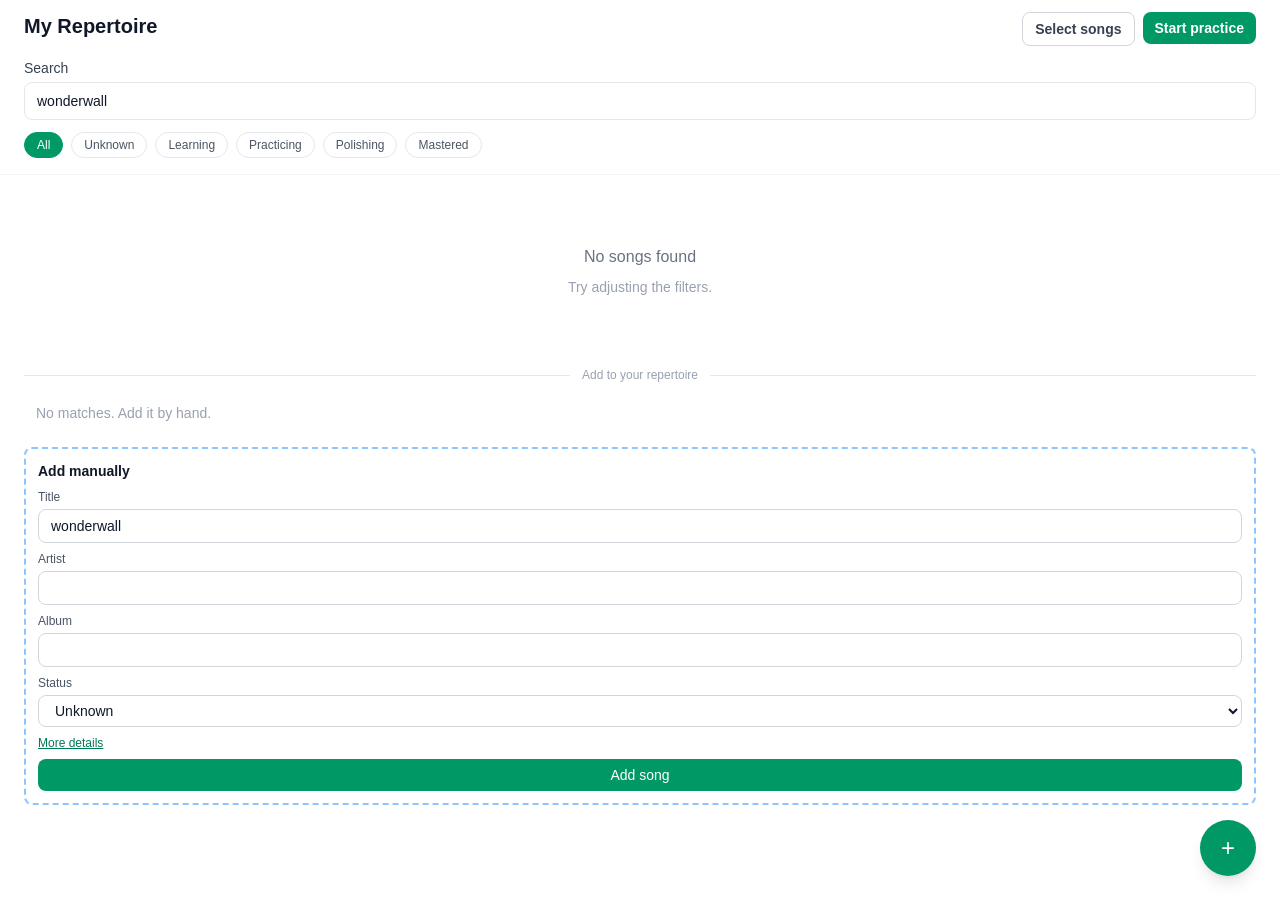
Scenario: manual entry panel (RH-152) › creates a manual song with title, artist, album and status
Replace the text in the field labelled "Title" with "Champagne Supernova" at [640, 526], box [38,509,1242,543]
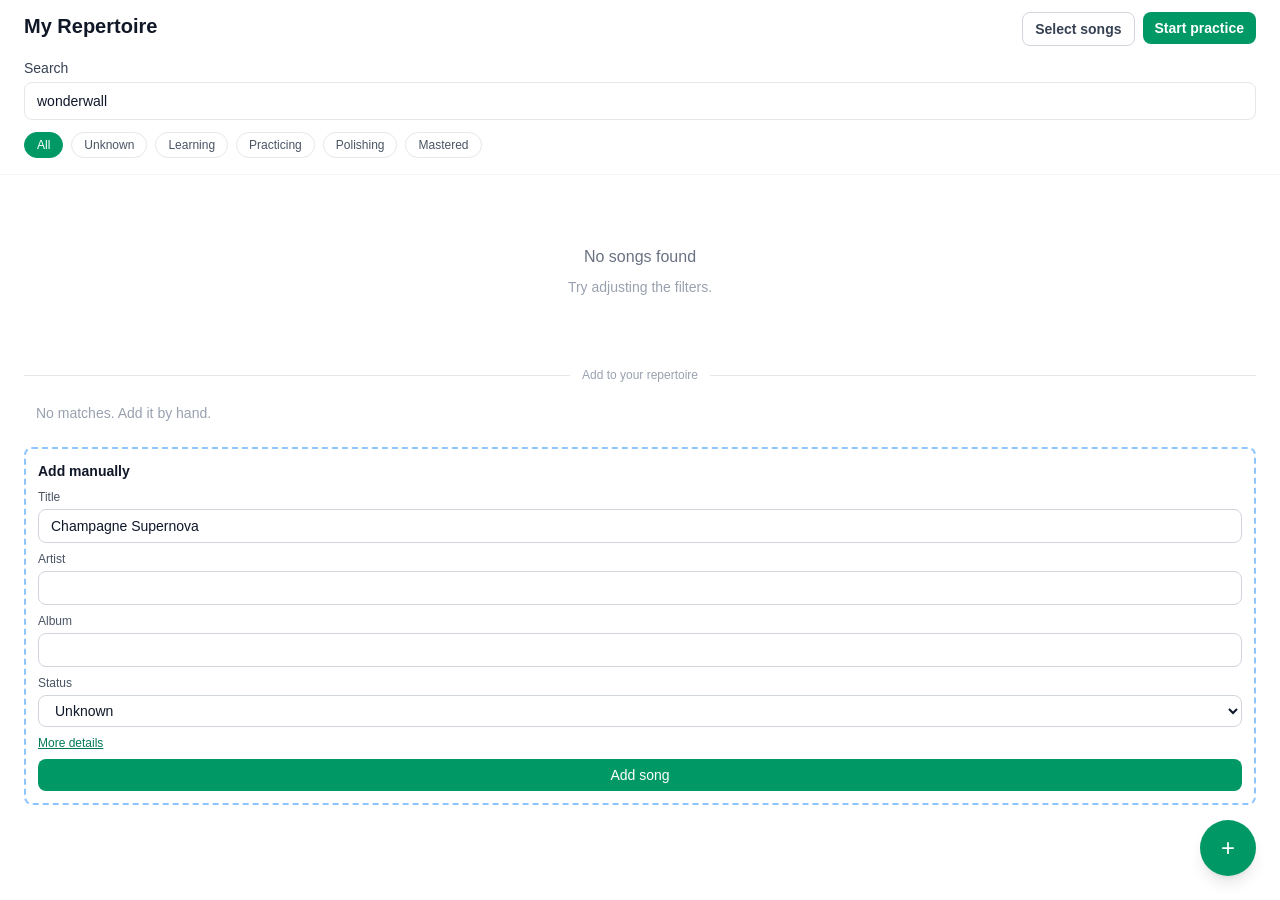
Type "Oasis" into the field labelled "Artist" at [640, 588], box [38,571,1242,605]
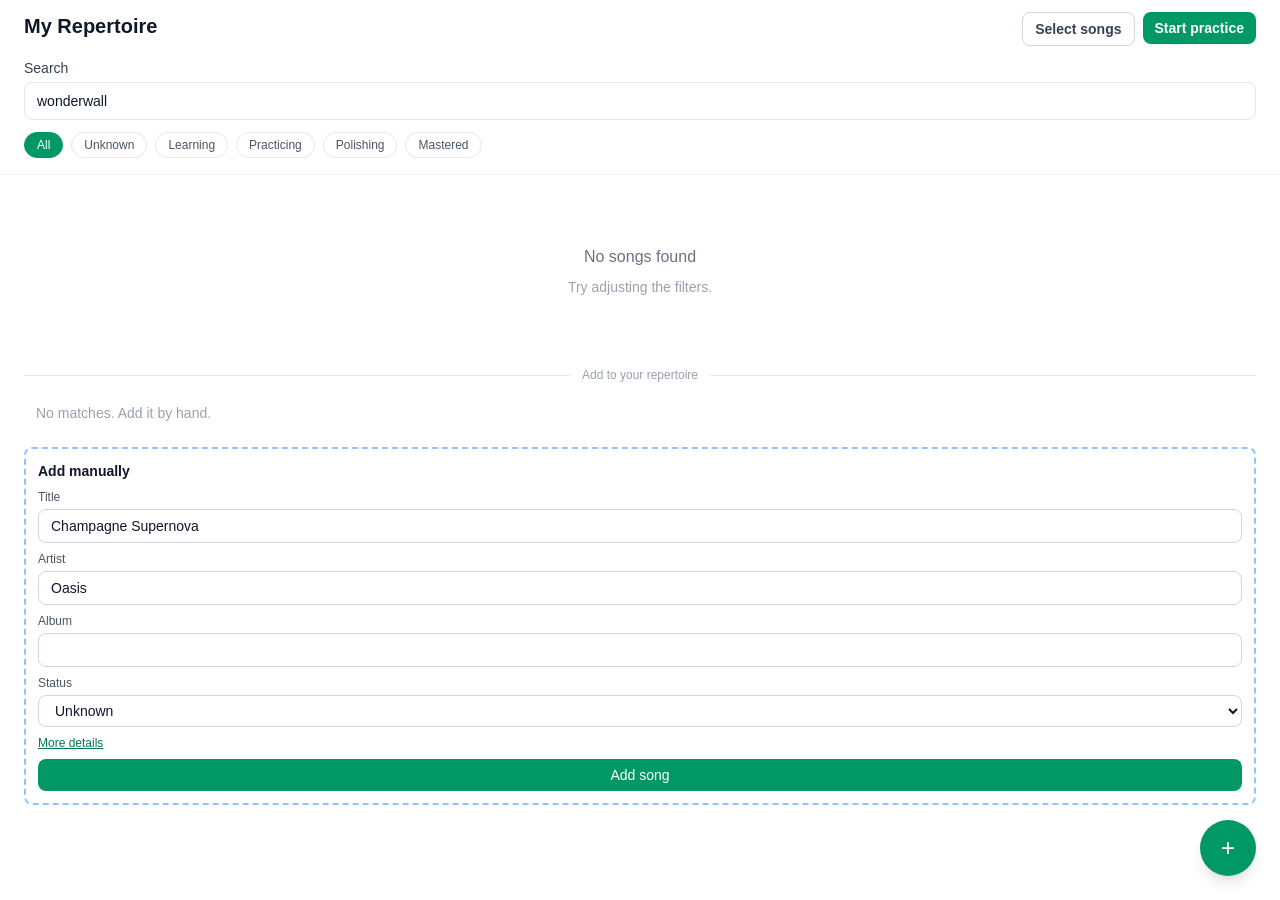
Type "Morning Glory" into the field labelled "Album" at [640, 650], box [38,633,1242,667]
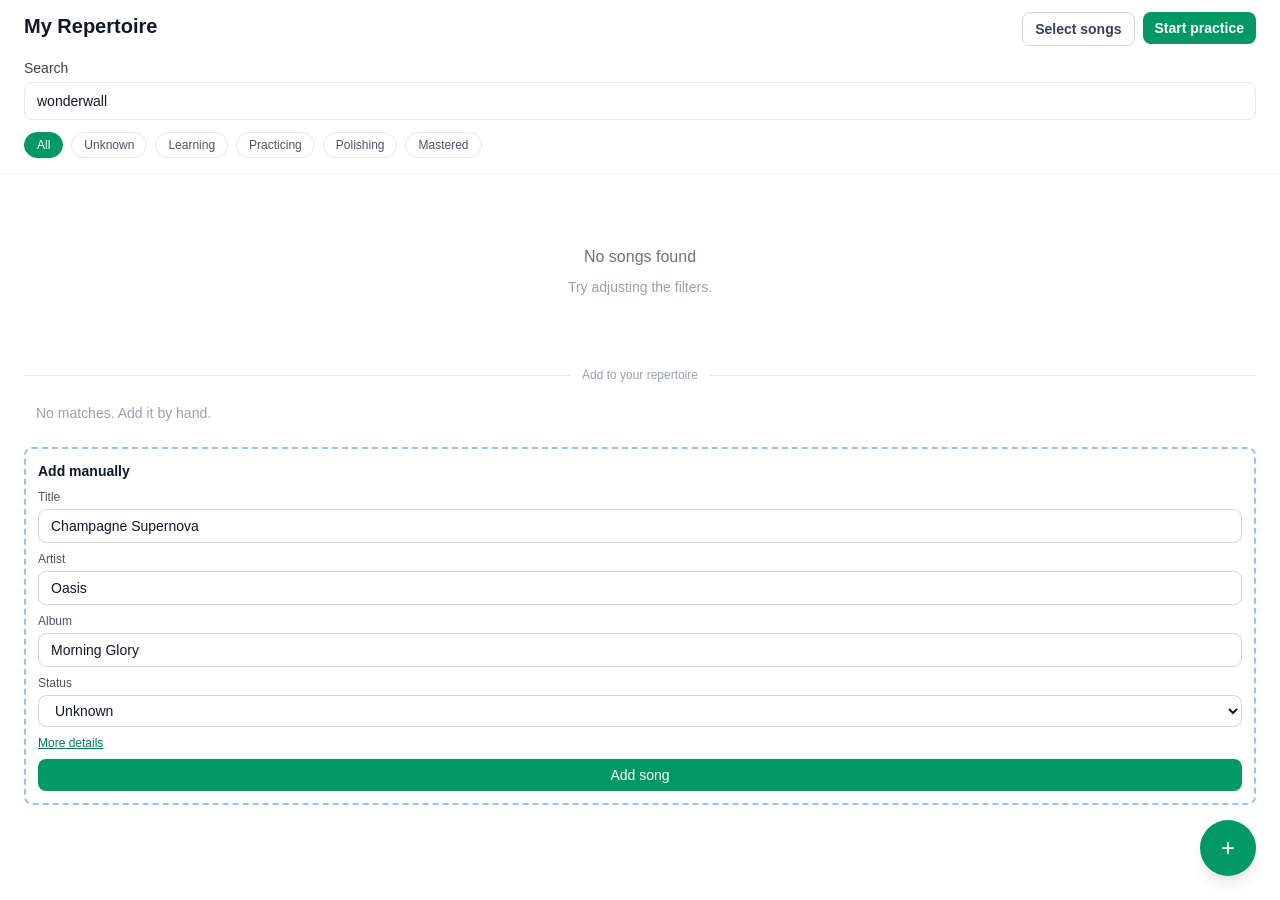
Select "Learning" in the dropdown labelled "Status" at [640, 711], box [38,695,1242,727]
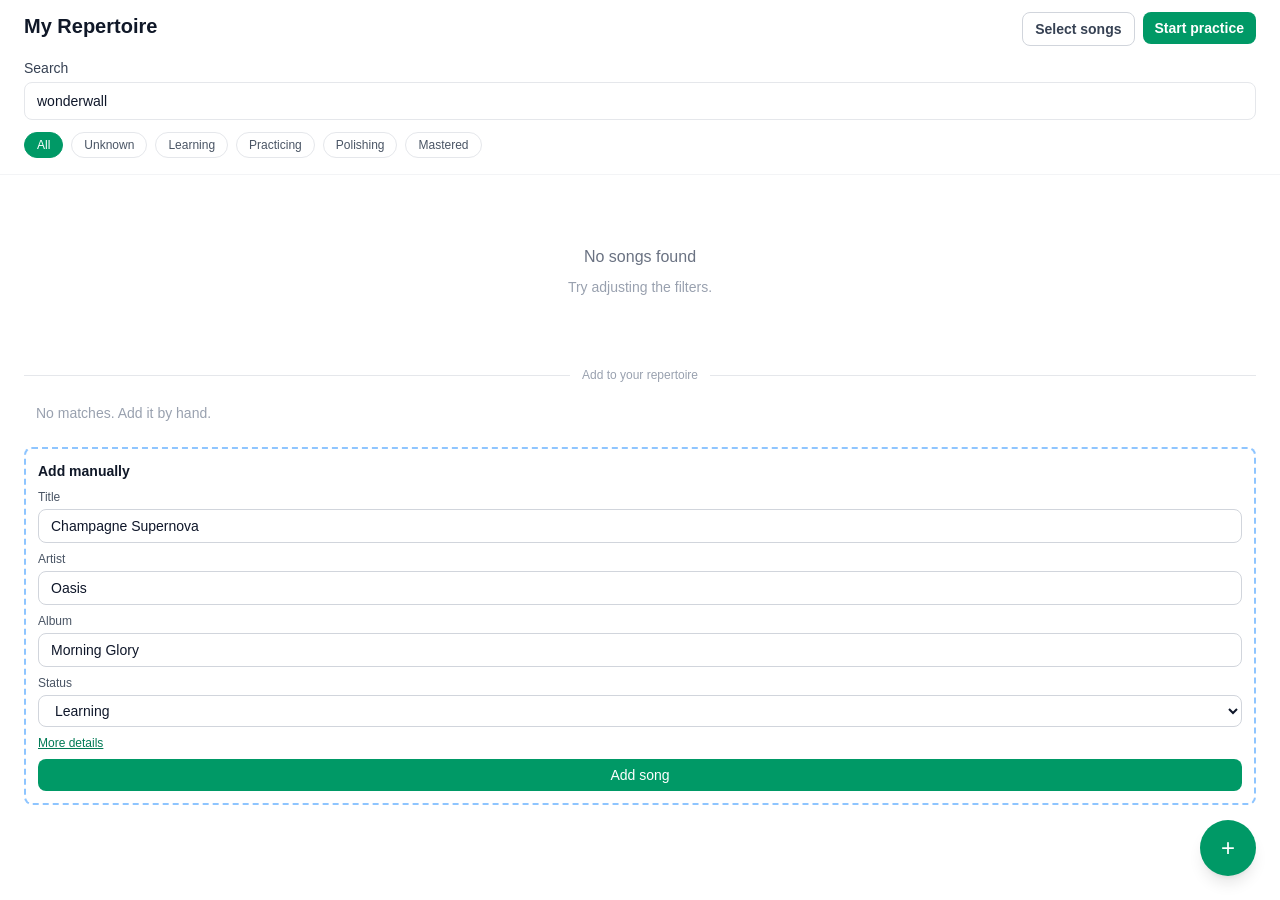
Click the button "Add song" at [640, 775], box [38,759,1242,791]
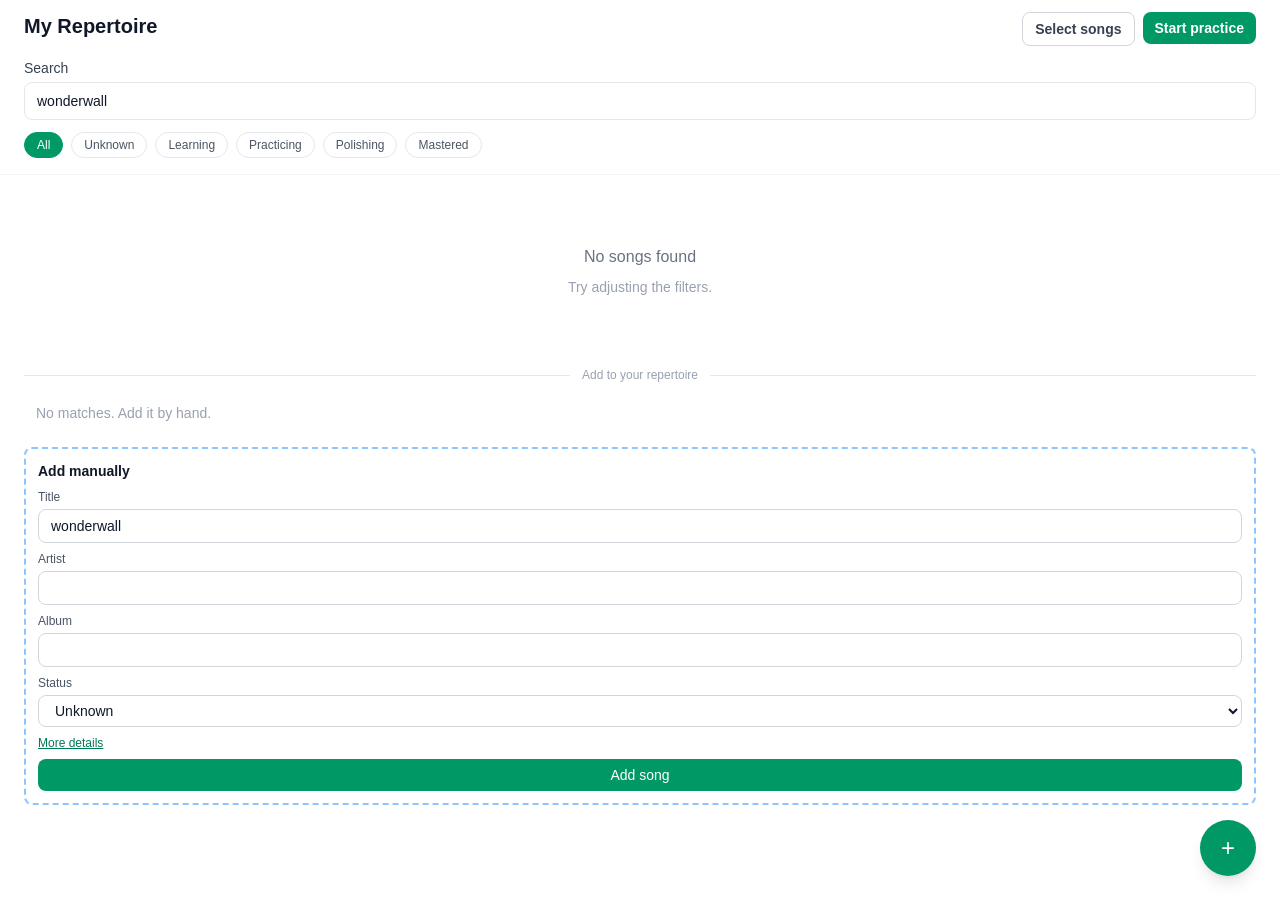
Expected: the field labelled "Title" holds "wonderwall", [38,509,1242,543]
Expected: the field labelled "Artist" is empty, [38,571,1242,605]
